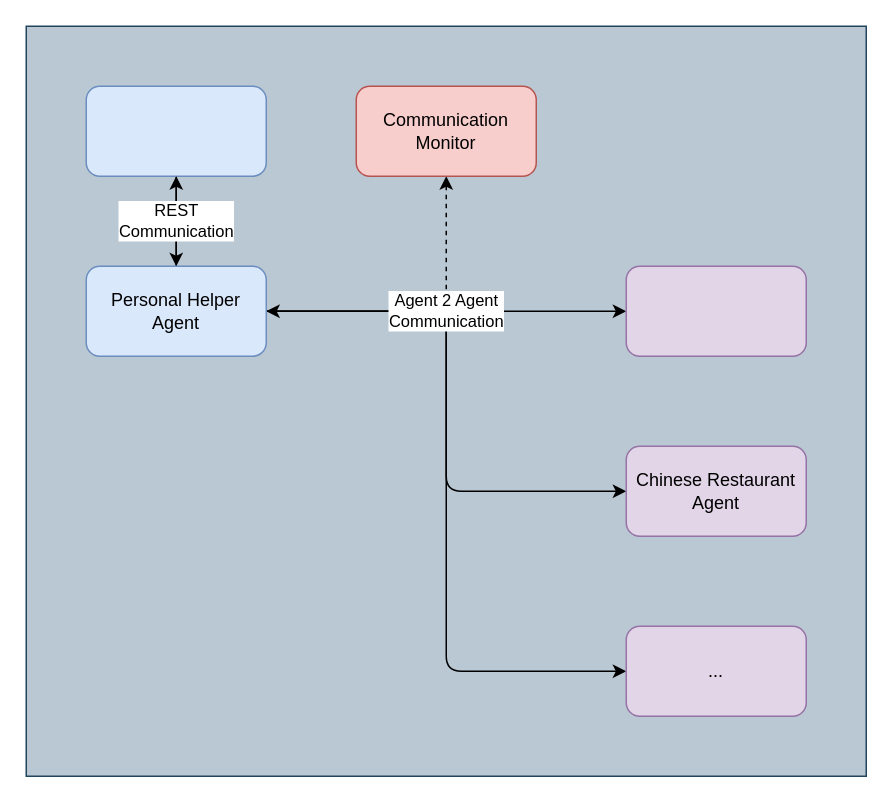
This 893x803 diagram has some shape labels left out. The shapes that lost their labels are listed below. From the top down, each one's centre as x and y in pixels, then its label:
At point 175,130: "User Interface".
At point 715,310: "Pizza Restaraunt Agent".
